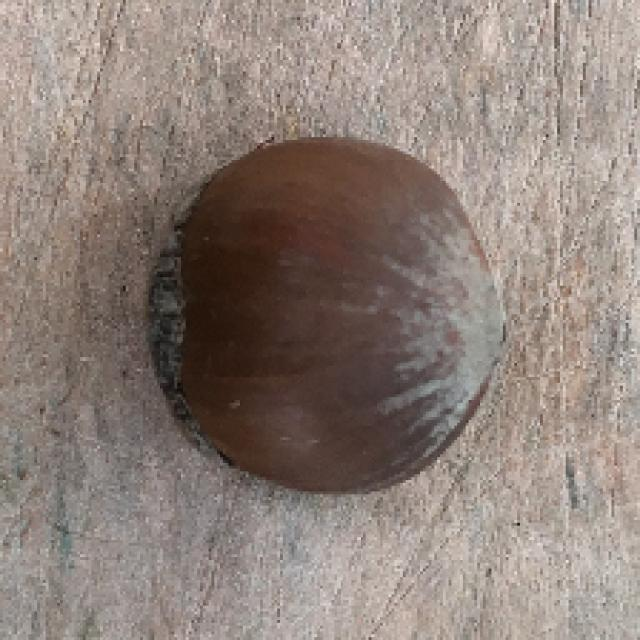DamagedHazelnut: (138, 137, 510, 493)
